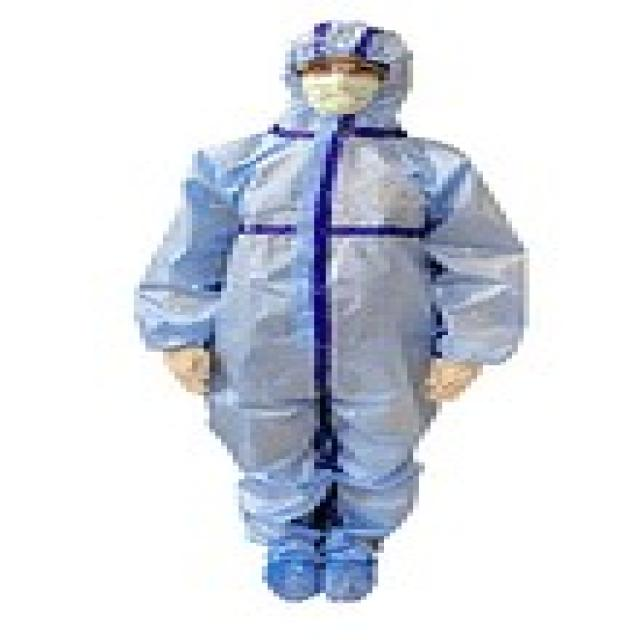Coverall: (152, 17, 564, 610)
Mask: (273, 60, 355, 121)
